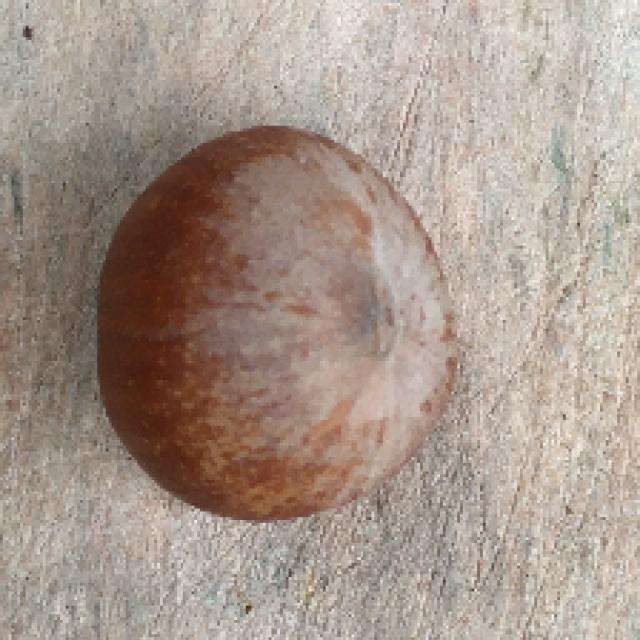qualityHazelnut: (90, 115, 461, 527)
